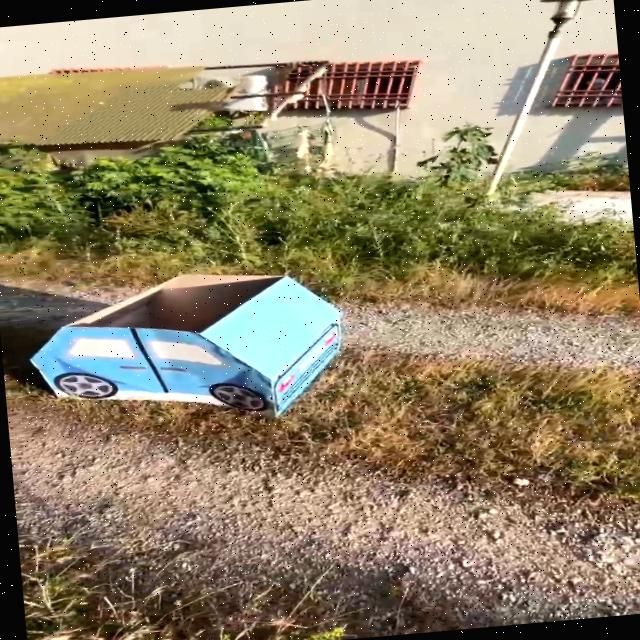blue_car: (0, 217, 393, 459)
